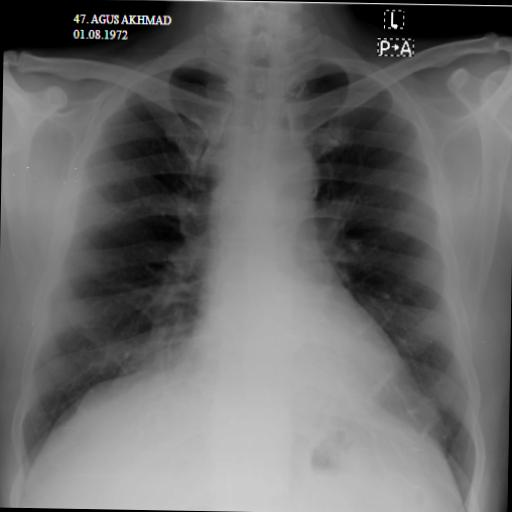kardiomegali: (4, 18, 493, 504)
